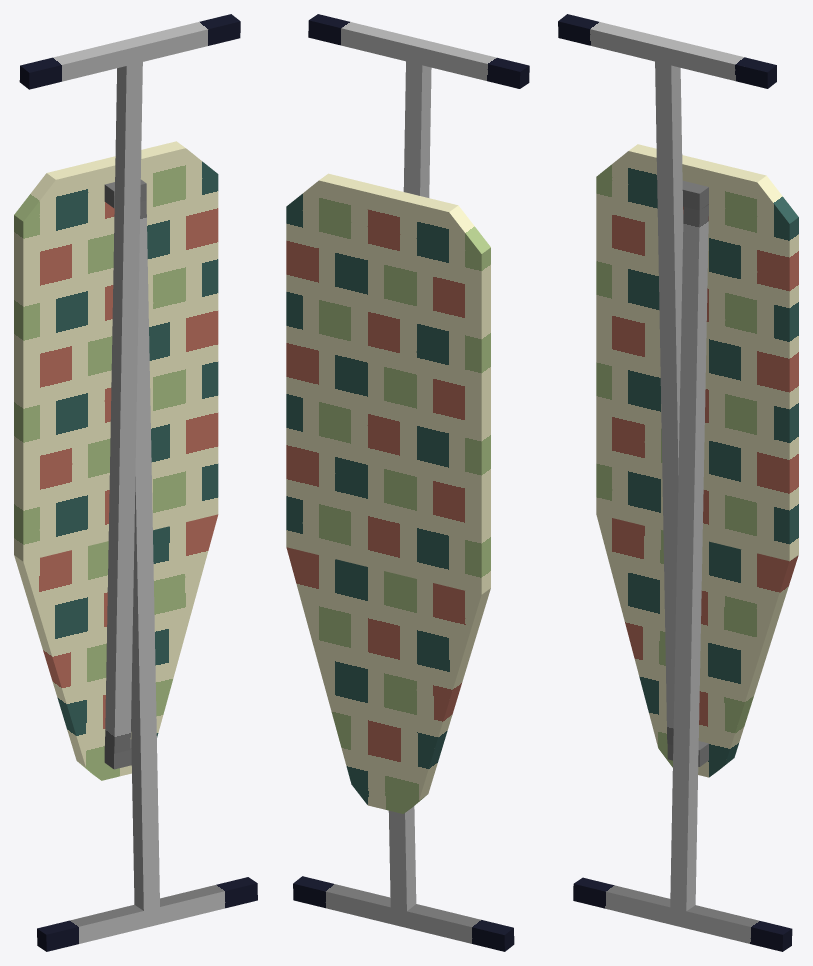
Rendered from SM_IronBoard.fbx.
3 renders of one model, left to right at view 1: azimuth 30°, elevation 25°; view 2: azimuth 150°, elevation 25°; view 3: azimuth 330°, elevation 25°, orthographic.
Visible parts, largest first — view 1: IronBoard.001; view 2: IronBoard.001; view 3: IronBoard.001.
Part boxes in pixels (x1,y1,x2,y2): IronBoard.001: (14, 14, 257, 951); IronBoard.001: (286, 14, 529, 951); IronBoard.001: (558, 14, 798, 951).
Bounding box in the file's own units: 43.75 × 162 × 10.87.
